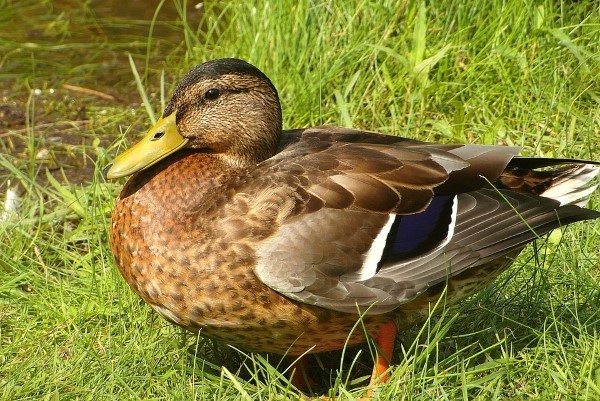Vịt/Duck: (86, 35, 467, 382)
